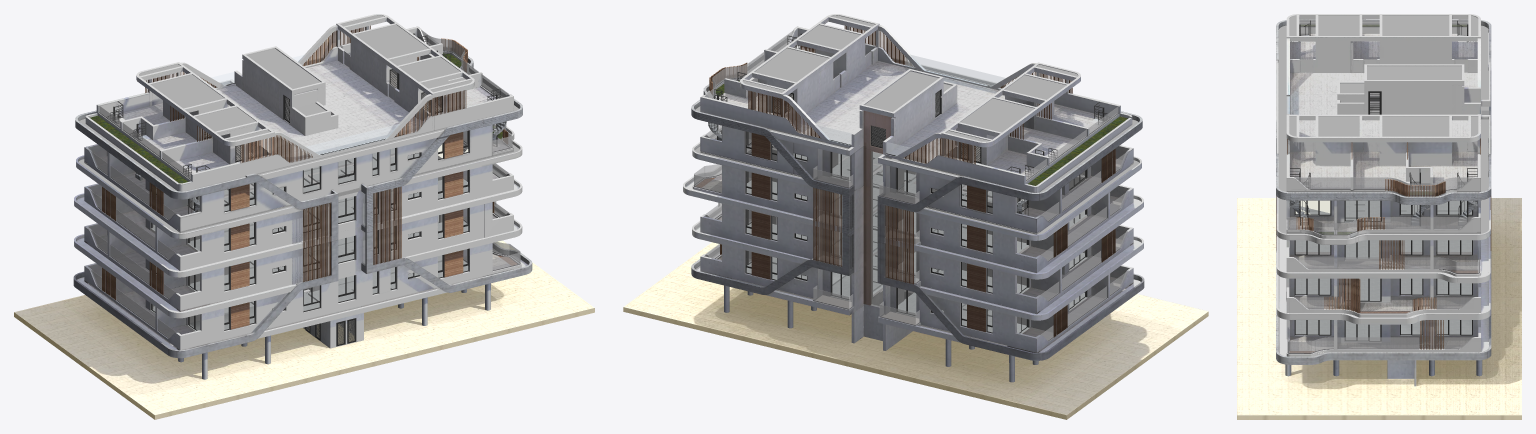
File: type-d-final.glb
3 renders of one model, left to right at view 1: azimuth 30°, elevation 25°; view 2: azimuth 150°, elevation 25°; view 3: azimuth 270°, elevation 25°, orthographic.
Parts seen in each view (by area): view 1: Groun_ Floor, D_RooF, SW - 028, Roof_Floor, RAILING - WOOD, FL_02- Wall, FL_04 Wall, FL_01- Wall, FL_03- Wall001, RooF_OutLine, RAILING - 017, Obj_SLA - 013_1 (+17 smaller); view 2: Groun_ Floor, D_RooF, SW - 028, RAILING - WOOD, RAILING - 017, FL_02- Wall, Roof_Floor, FL_04 Wall, RooF_OutLine, FL_03- Wall001, FL_01- Wall, Obj_W49 (+18 smaller); view 3: Groun_ Floor, D_RooF, SW - 028, Roof_Floor, RAILING - 017, FL_Balkon, Obj_SLA - 013_1, Obj_W49, RAILING - WOOD, FL_02- Wall, FL_04 Wall, pBeton Strip R down (+16 smaller).
Boxes of the visible parts, bbox=[...] form: Groun_ Floor: bbox=[14, 240, 594, 419]; D_RooF: bbox=[114, 14, 482, 164]; SW - 028: bbox=[78, 15, 521, 346]; Roof_Floor: bbox=[117, 56, 495, 176]; RAILING - WOOD: bbox=[102, 25, 508, 300]; FL_02- Wall: bbox=[84, 202, 513, 310]; FL_04 Wall: bbox=[84, 100, 513, 231]; FL_01- Wall: bbox=[84, 243, 521, 350]; FL_03- Wall001: bbox=[84, 148, 513, 270]; RooF_OutLine: bbox=[85, 26, 513, 191]; RAILING - 017: bbox=[89, 30, 520, 338]; Obj_SLA - 013_1: bbox=[150, 148, 468, 330]; Groun_ Floor: bbox=[623, 242, 1208, 419]; D_RooF: bbox=[724, 14, 1102, 171]; SW - 028: bbox=[695, 15, 1139, 333]; RAILING - WOOD: bbox=[709, 25, 1115, 337]; RAILING - 017: bbox=[693, 30, 1127, 340]; FL_02- Wall: bbox=[700, 203, 1133, 314]; Roof_Floor: bbox=[719, 48, 1100, 178]; FL_04 Wall: bbox=[700, 120, 1133, 233]; RooF_OutLine: bbox=[700, 26, 1132, 192]; FL_03- Wall001: bbox=[692, 146, 1133, 272]; FL_01- Wall: bbox=[700, 244, 1133, 352]; Obj_W49: bbox=[746, 132, 1084, 332]; Groun_ Floor: bbox=[1237, 198, 1521, 419]; D_RooF: bbox=[1286, 14, 1480, 190]; SW - 028: bbox=[1278, 15, 1488, 356]; Roof_Floor: bbox=[1290, 33, 1477, 190]; RAILING - 017: bbox=[1287, 20, 1490, 353]; FL_Balkon: bbox=[1289, 157, 1488, 350]; Obj_SLA - 013_1: bbox=[1295, 200, 1471, 341]; Obj_W49: bbox=[1296, 201, 1471, 336]; RAILING - WOOD: bbox=[1276, 138, 1491, 349]; FL_02- Wall: bbox=[1286, 278, 1480, 317]; FL_04 Wall: bbox=[1286, 186, 1480, 238]; pBeton Strip R down: bbox=[1276, 202, 1491, 364].
Bounding box in the file's own units: 39.02 × 20.02 × 21.63.
43 materials, 40 textured.
